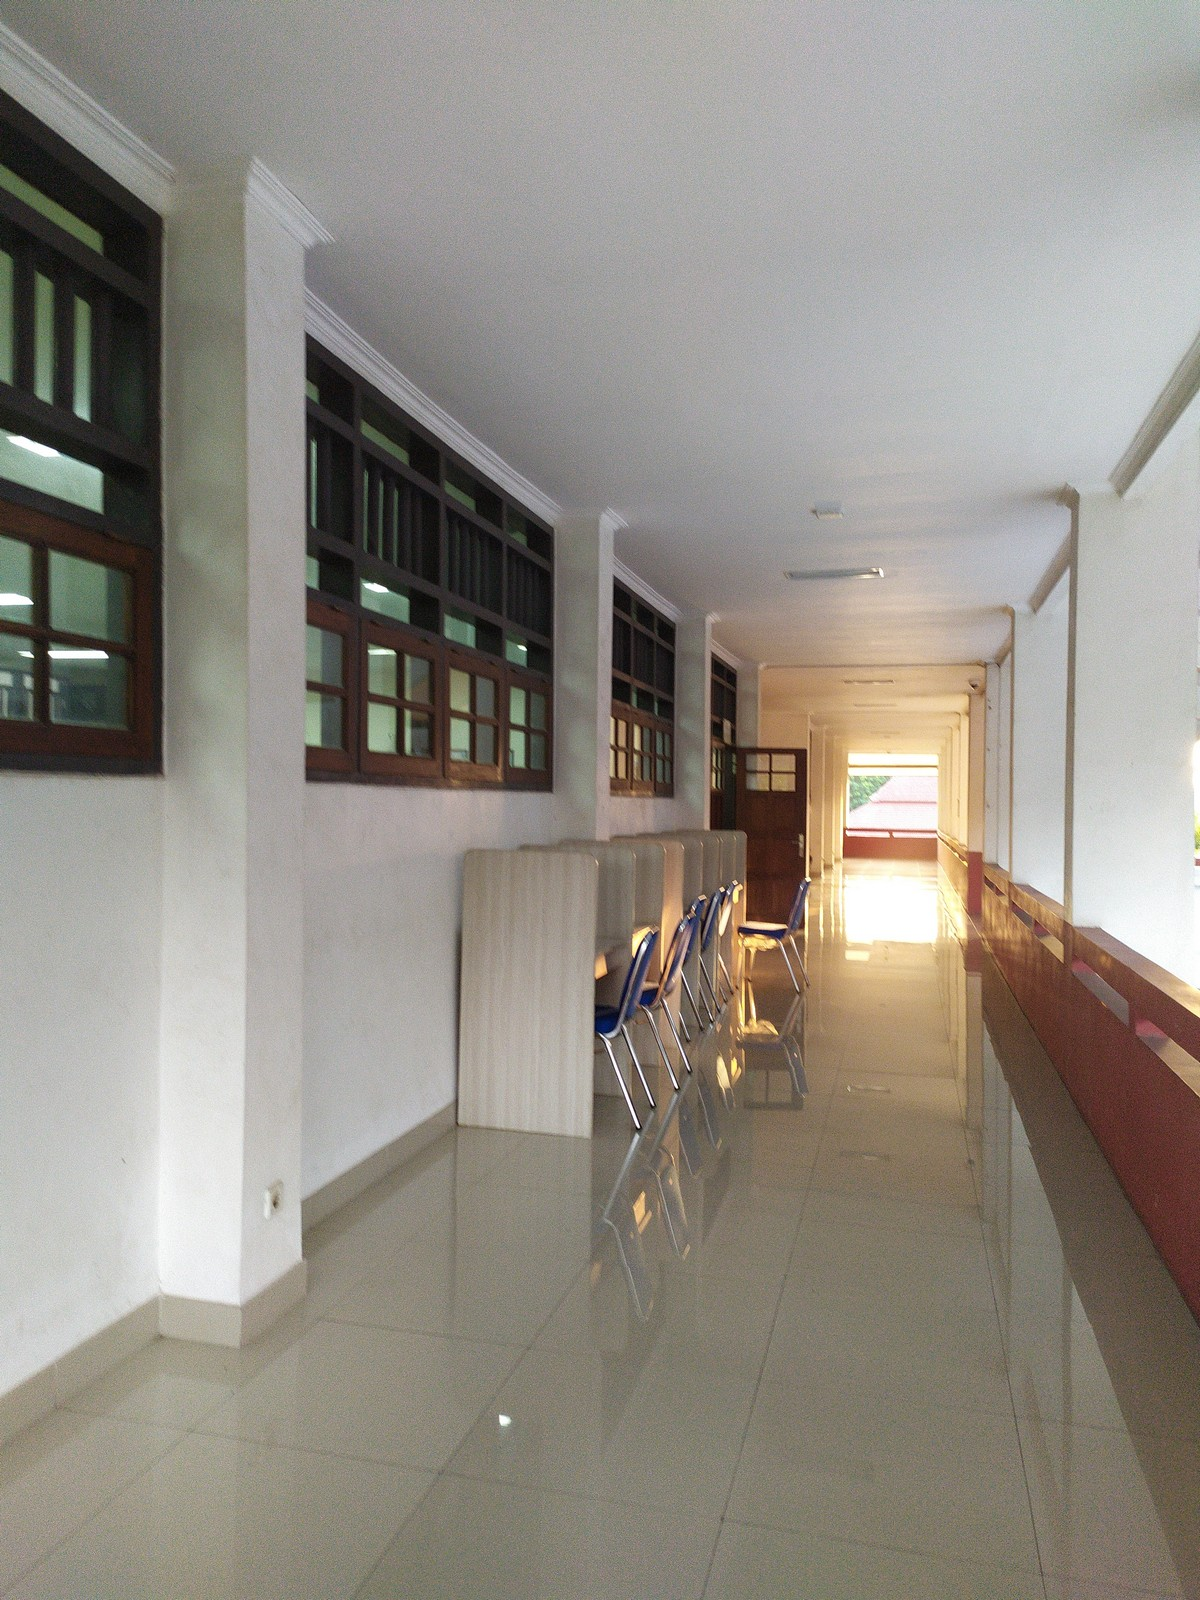concrete column: (146, 144, 321, 1357), (1056, 479, 1199, 957), (548, 496, 626, 850), (667, 596, 722, 831)
